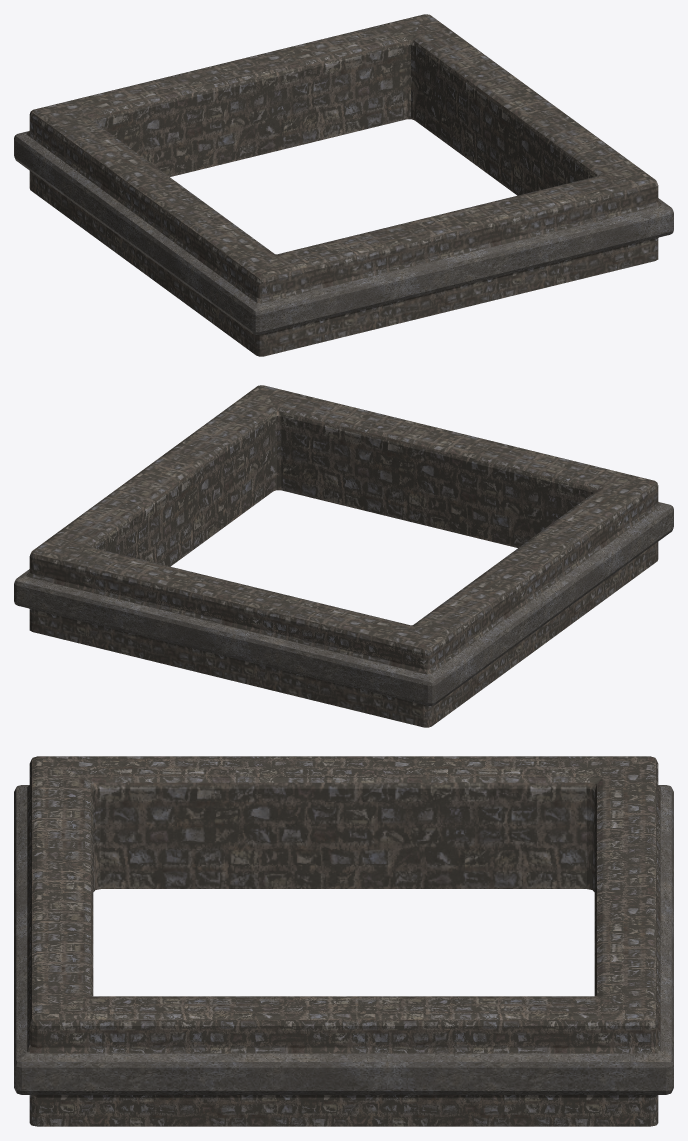
The model's file is TowerRoof_SquareEdge.fbx.
The picture shows the model from 3 angles, top to bottom: view 1: azimuth 30°, elevation 25°; view 2: azimuth 150°, elevation 25°; view 3: azimuth 270°, elevation 25°; orthographic projection. The views are drawn at different scales.
Parts seen in each view (by area): view 1: Square Tower Top Edged; view 2: Square Tower Top Edged; view 3: Square Tower Top Edged.
Boxes of the visible parts, left/top/right/bottom form: Square Tower Top Edged: left=14, top=14, right=673, bottom=356; Square Tower Top Edged: left=14, top=385, right=673, bottom=727; Square Tower Top Edged: left=14, top=756, right=673, bottom=1126.
Size of the model in its own units: 630 by 115 by 630.
